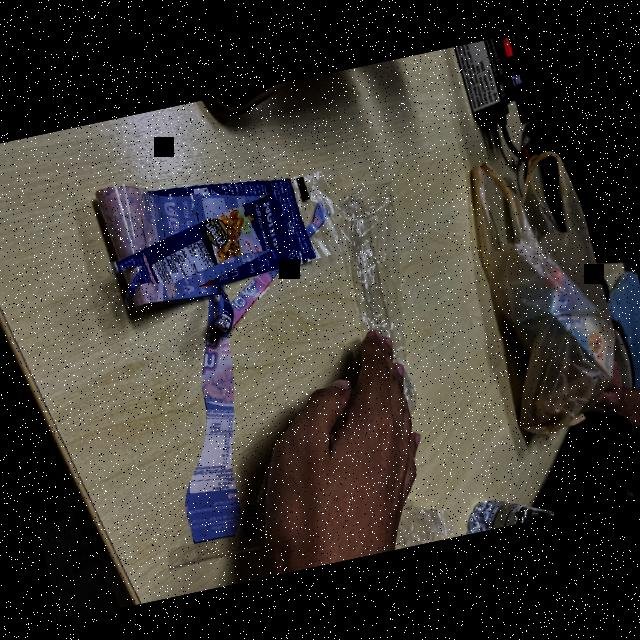scrap_plastic: (72, 138, 352, 354), (316, 160, 456, 427)
